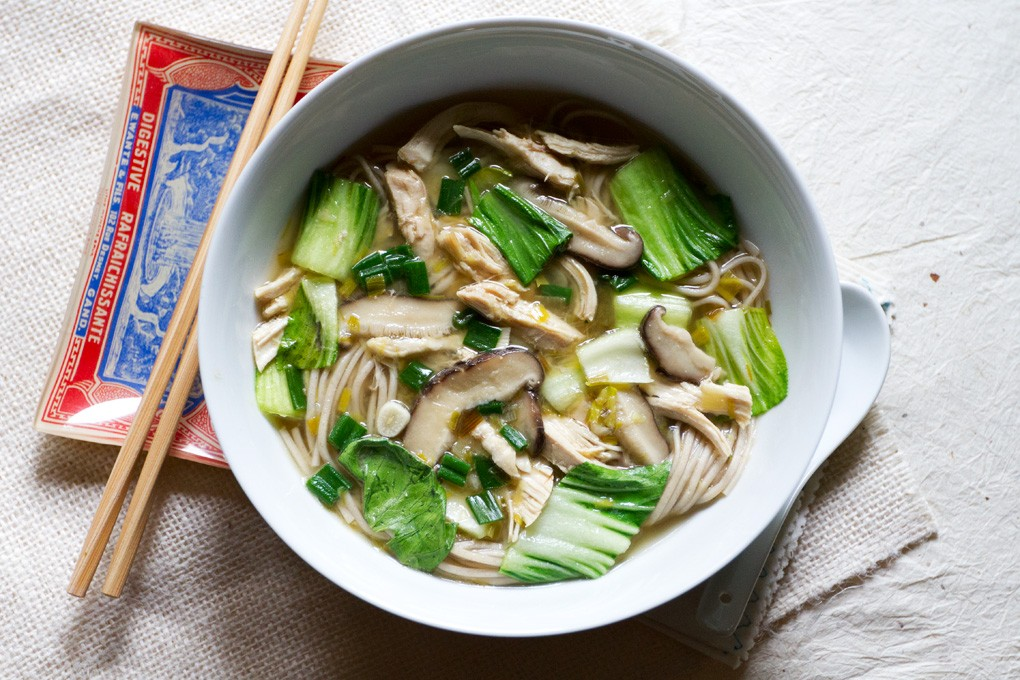Soba: (296, 143, 772, 565)
